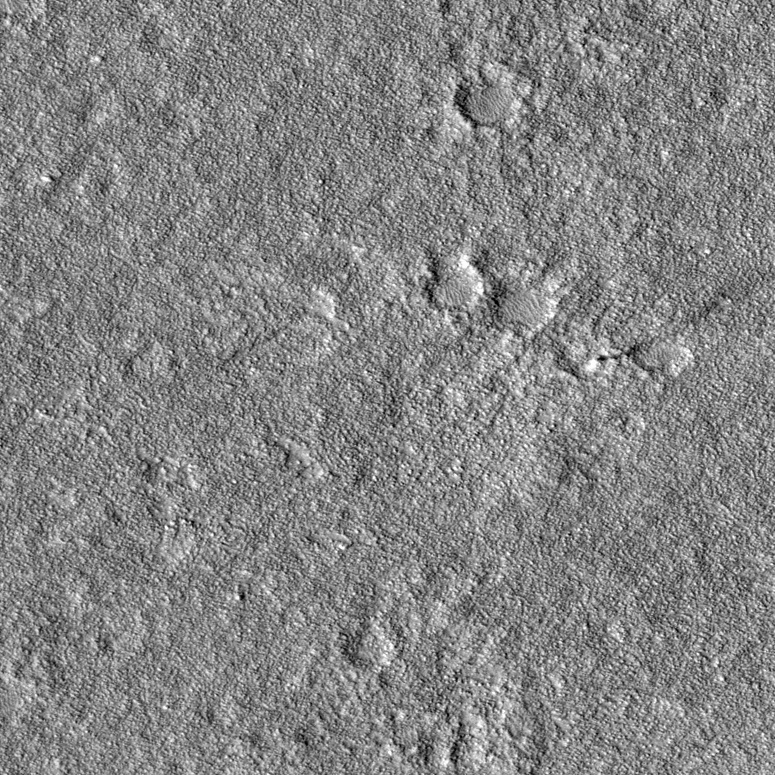dust_devil: (583, 343, 645, 375)
